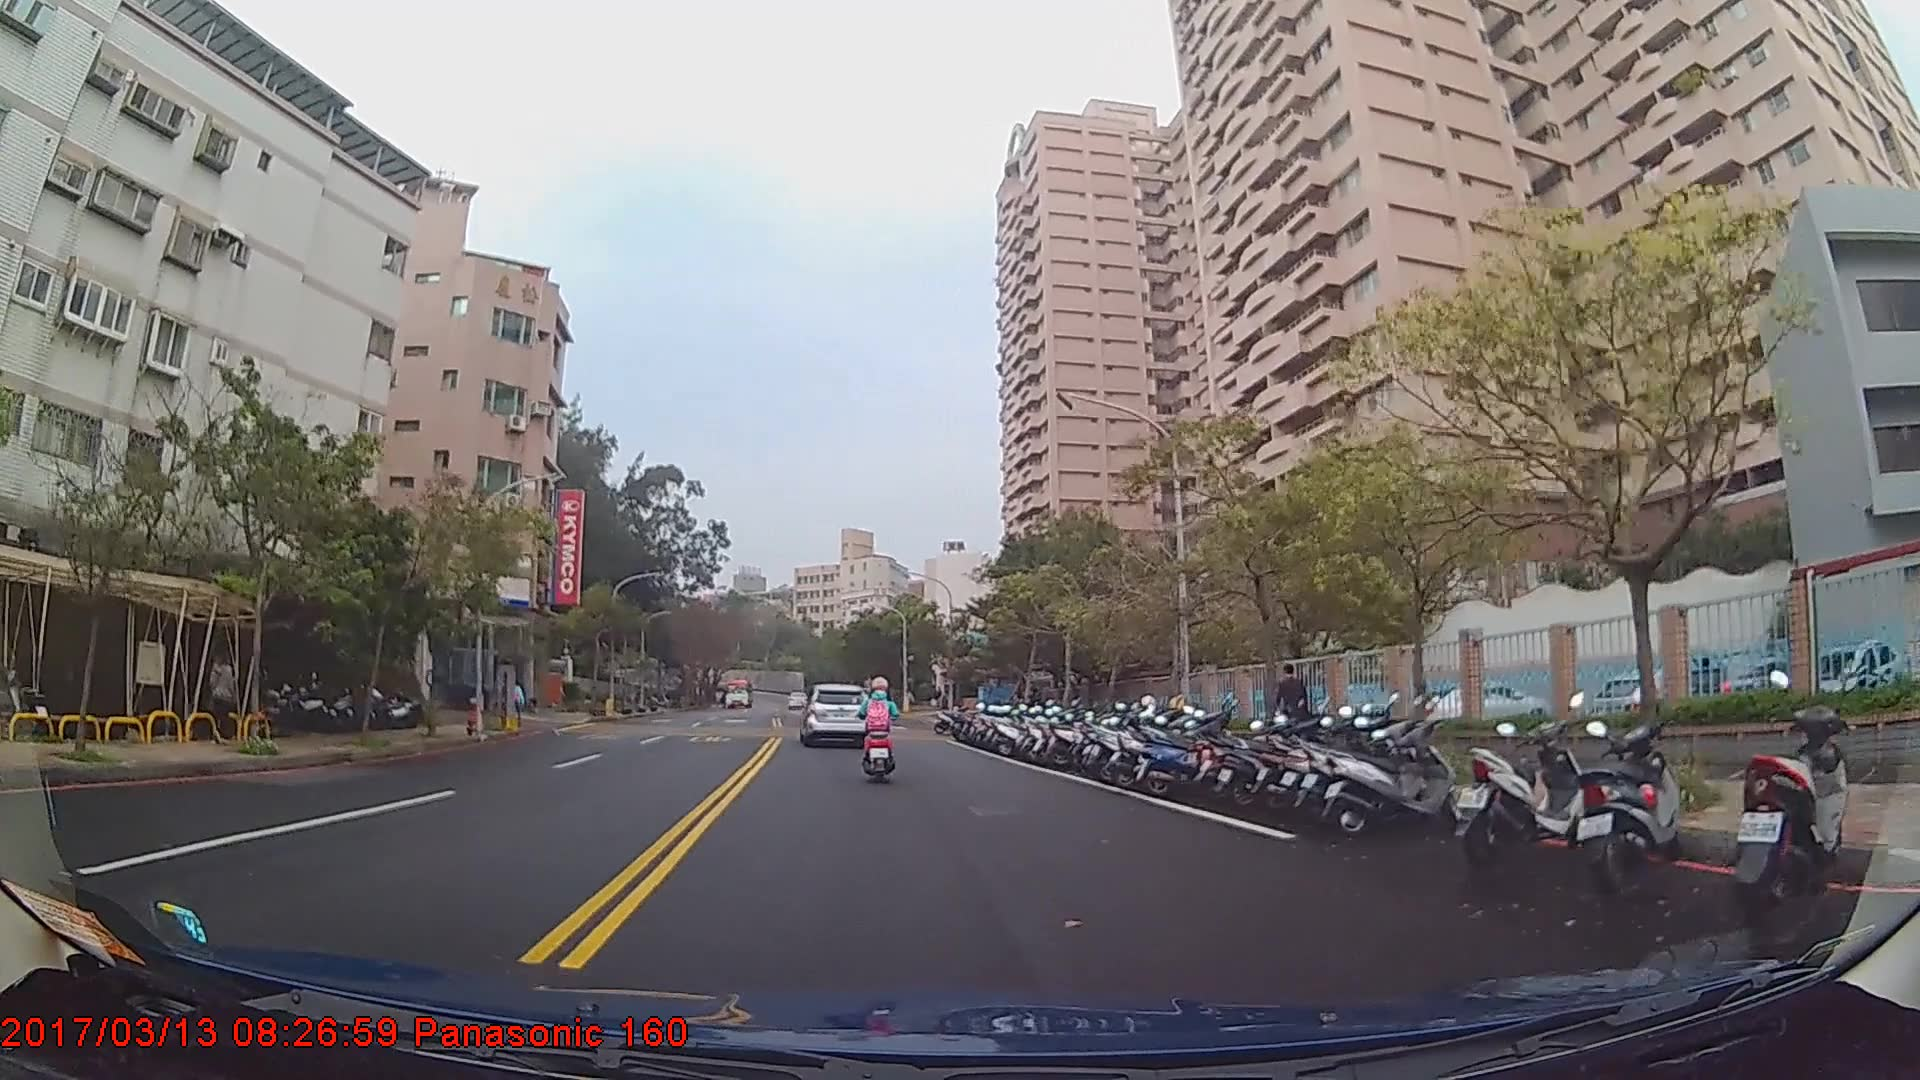pedestrian: (1272, 666, 1312, 761), (207, 647, 234, 745)
rider: (859, 678, 901, 787)
vehicle: (799, 681, 869, 748), (719, 677, 753, 710)
